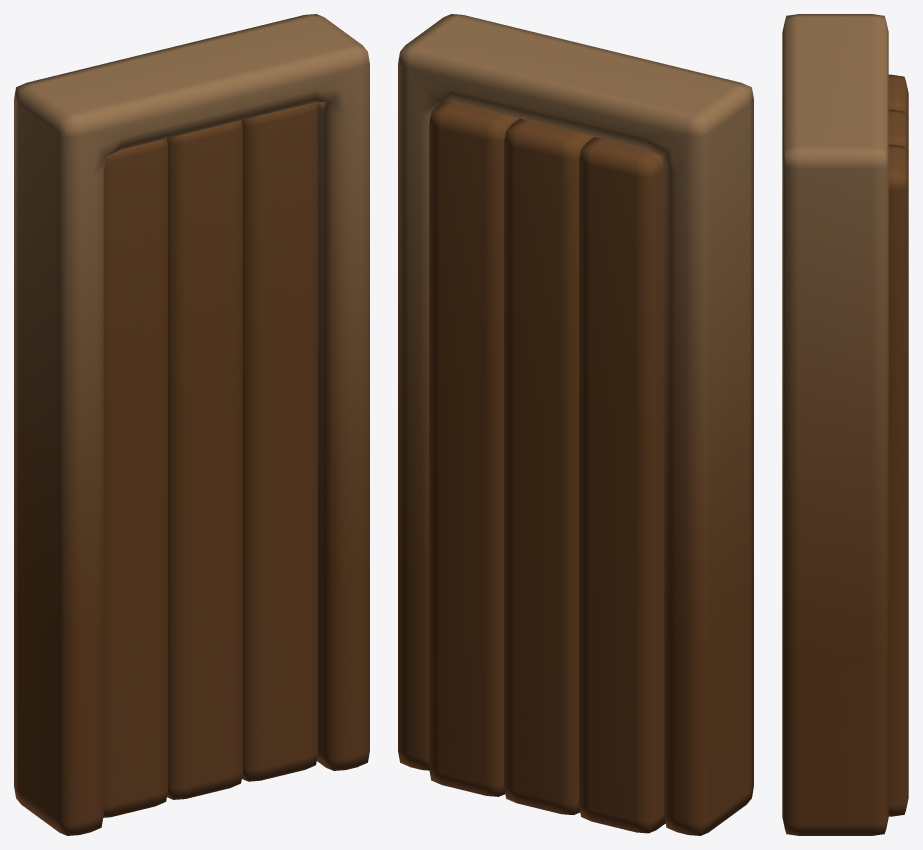
Rendered from SM_Clay_Door_02.fbx.
3 renders of one model, left to right at view 1: azimuth 30°, elevation 25°; view 2: azimuth 150°, elevation 25°; view 3: azimuth 270°, elevation 25°, orthographic. The views are drawn at different scales.
Parts seen in each view (by area): view 1: SM_Clay_Door_02; view 2: SM_Clay_Door_02; view 3: SM_Clay_Door_02.
Boxes of the visible parts, x1,y1,x2,y2 form: SM_Clay_Door_02: (14,14,369,835); SM_Clay_Door_02: (398,14,753,835); SM_Clay_Door_02: (782,14,908,835).
Size of the model in its own units: 0.2991 by 0.6673 by 0.1113.
